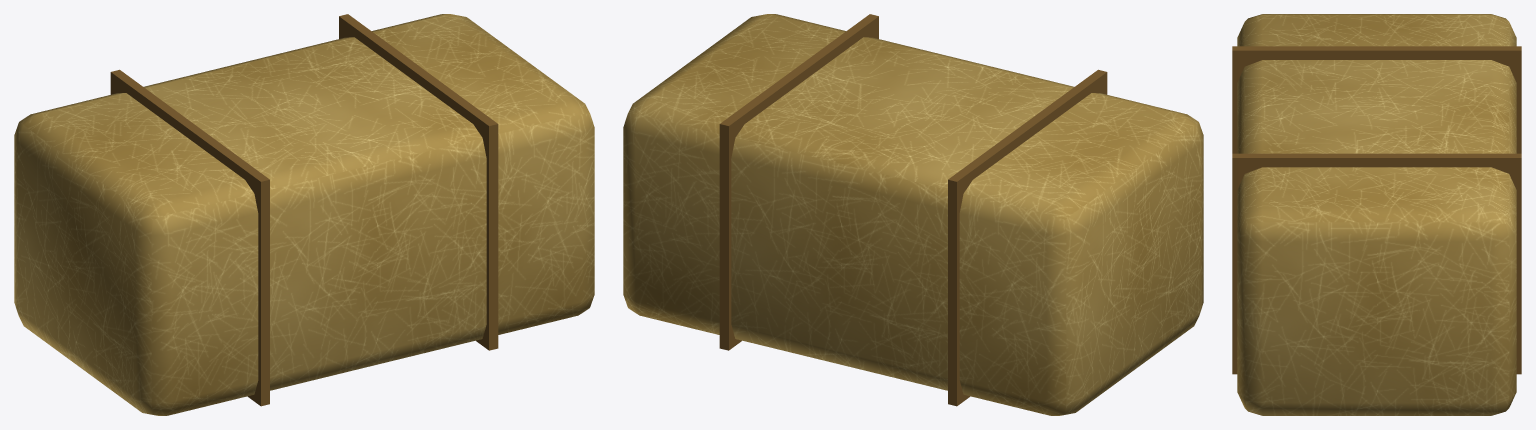
File: hay_bale.gltf
3 views of the same model, side by side, from view 1: azimuth 30°, elevation 25°; view 2: azimuth 150°, elevation 25°; view 3: azimuth 270°, elevation 25° (orthographic). The views are drawn at different scales.
Visible parts, largest first — view 1: hay_bale_mesh; view 2: hay_bale_mesh; view 3: hay_bale_mesh.
Part boxes in pixels (x1,y1,x2,y2): hay_bale_mesh: (14,14,594,415); hay_bale_mesh: (623,14,1203,415); hay_bale_mesh: (1232,14,1521,415).
Size of the model in its own units: 1 by 0.47 by 0.57.
Materials: 2 (1 with a texture image).
